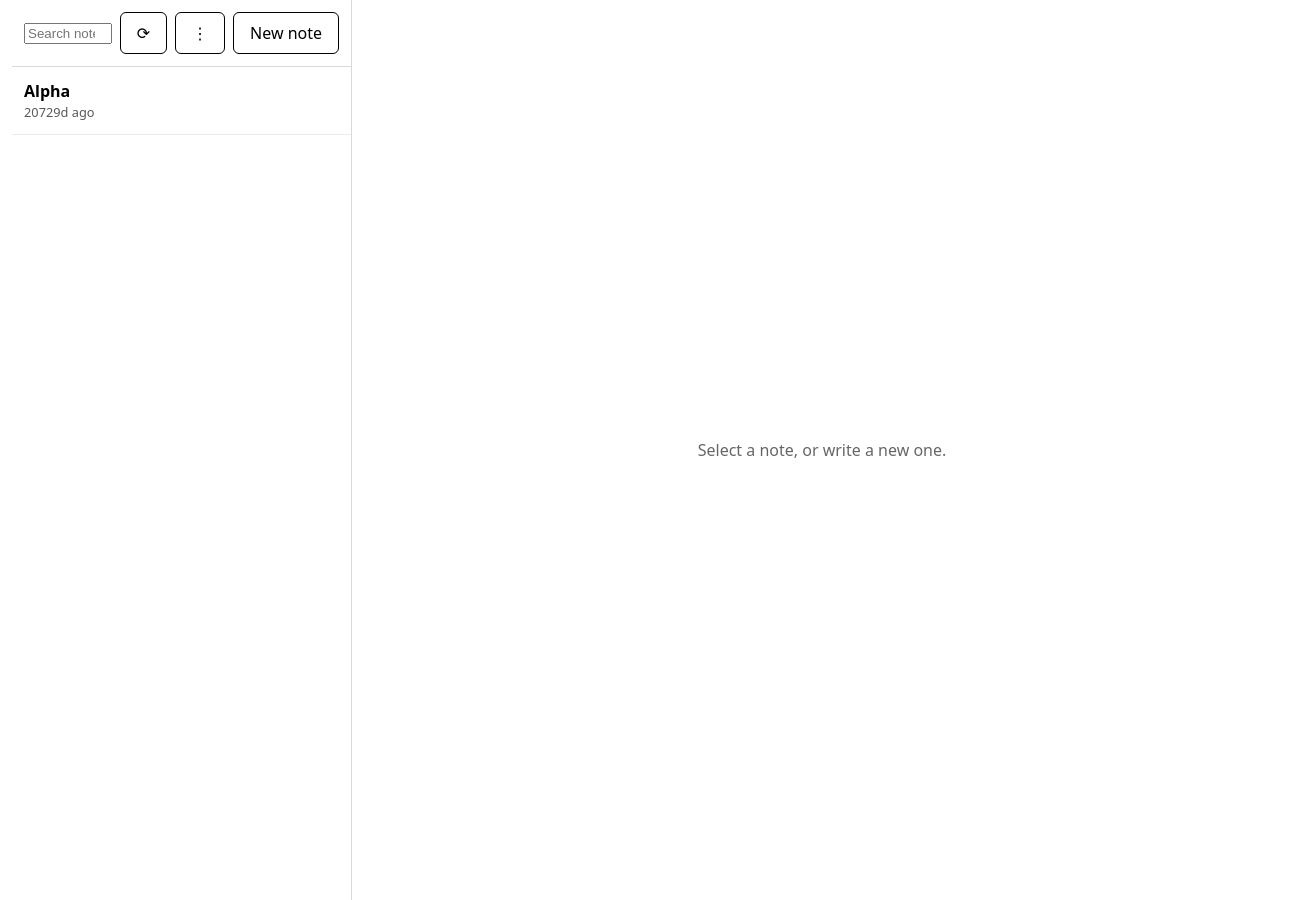
Test case: AppShell — step 7 › never re-seeds over unsaved typing
Step 1. Click the button "Alpha 20729d ago" → coordinates (47, 91), box [12,67,351,135]
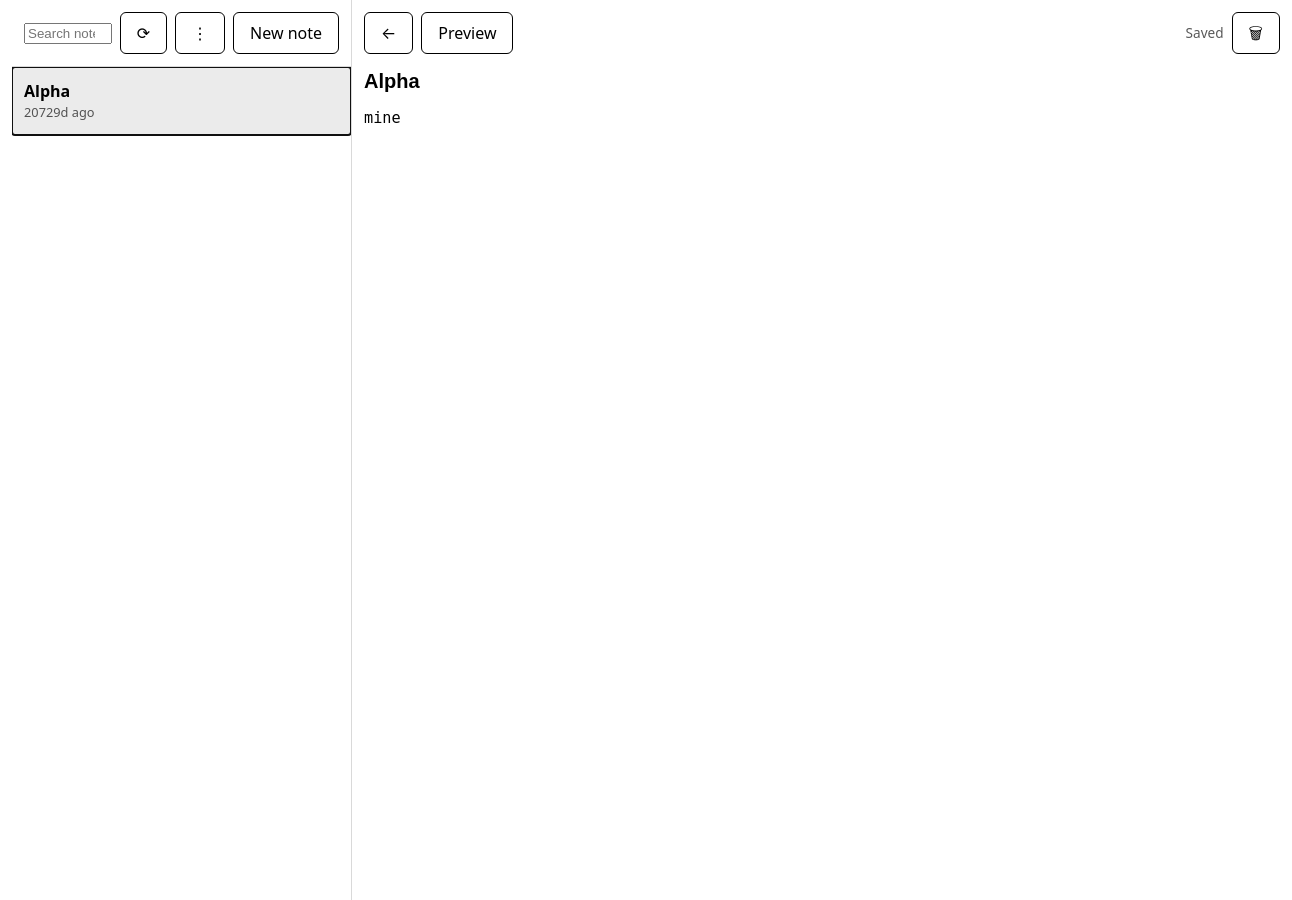
Step 2. Type " typed" into the text box named "Note body" → coordinates (822, 498), box [364,109,1280,888]
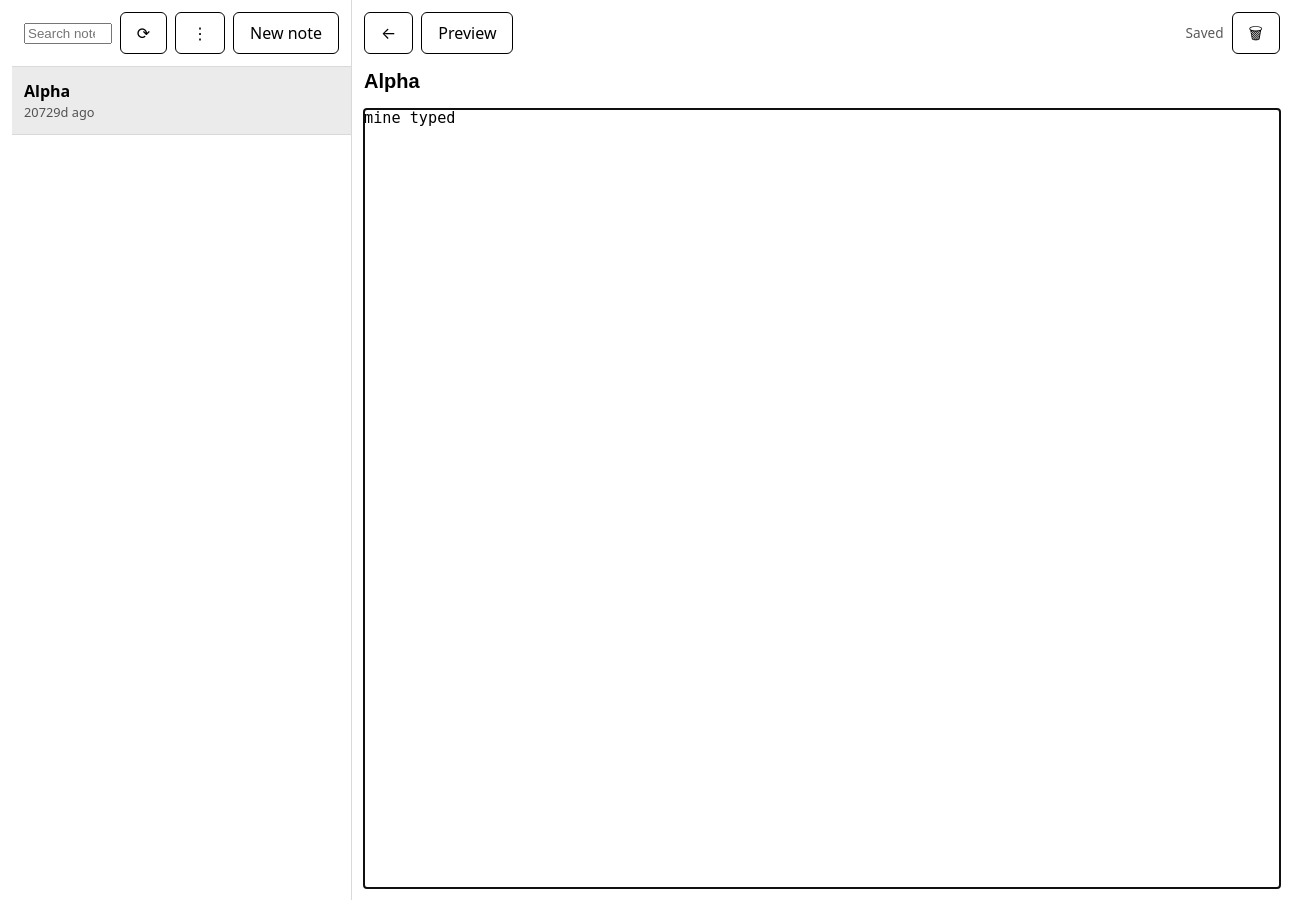
Expected: the text box named "Note body" holds "mine typed"
